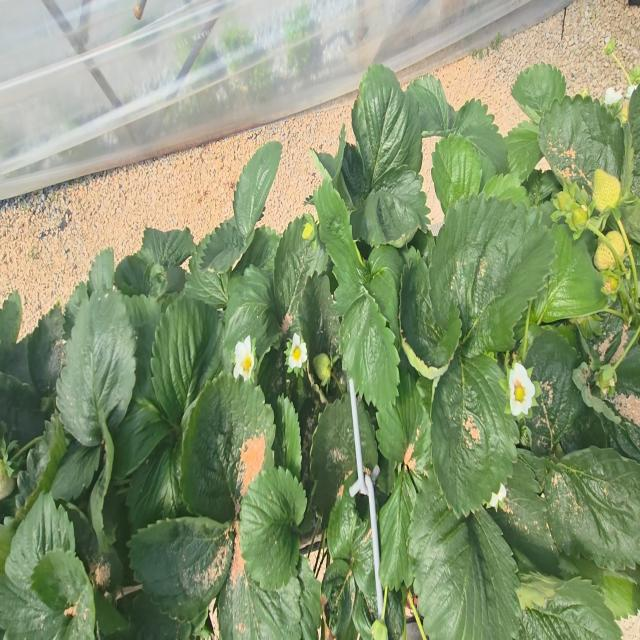Flowers: (508, 362, 535, 418), (234, 335, 255, 381), (285, 334, 307, 374), (604, 88, 622, 106), (626, 84, 637, 99)
Leaves: (430, 194, 555, 357), (409, 479, 520, 639), (181, 373, 274, 534), (431, 354, 519, 514), (57, 291, 136, 446), (545, 446, 640, 570), (198, 142, 281, 272), (130, 517, 234, 620), (218, 535, 321, 639), (526, 330, 606, 455), (240, 454, 307, 589), (352, 65, 421, 196), (151, 296, 217, 424), (538, 95, 624, 187), (534, 225, 608, 322), (341, 292, 399, 409), (6, 492, 75, 588), (400, 260, 461, 367), (517, 577, 621, 639), (327, 489, 377, 617), (310, 393, 356, 524), (31, 550, 95, 639), (223, 265, 280, 364), (273, 215, 327, 319), (376, 373, 431, 474), (126, 435, 184, 529), (233, 141, 282, 236), (379, 469, 417, 590), (113, 396, 167, 480), (362, 180, 427, 247), (450, 99, 506, 172), (432, 134, 482, 213), (295, 273, 339, 360), (25, 305, 65, 395), (511, 63, 566, 124), (406, 75, 455, 137), (52, 443, 102, 501), (229, 225, 280, 281), (322, 560, 356, 639), (503, 121, 543, 181), (115, 250, 164, 296), (276, 395, 302, 479), (141, 228, 195, 268), (185, 268, 229, 309), (315, 124, 346, 181), (341, 144, 367, 206), (483, 173, 529, 206), (359, 404, 378, 468), (88, 248, 115, 290)
Strawberries: (594, 231, 625, 270), (593, 169, 620, 210), (313, 353, 332, 386), (596, 364, 616, 394), (0, 459, 14, 500), (553, 190, 576, 213), (572, 207, 588, 226), (603, 276, 619, 294), (302, 222, 315, 240)
